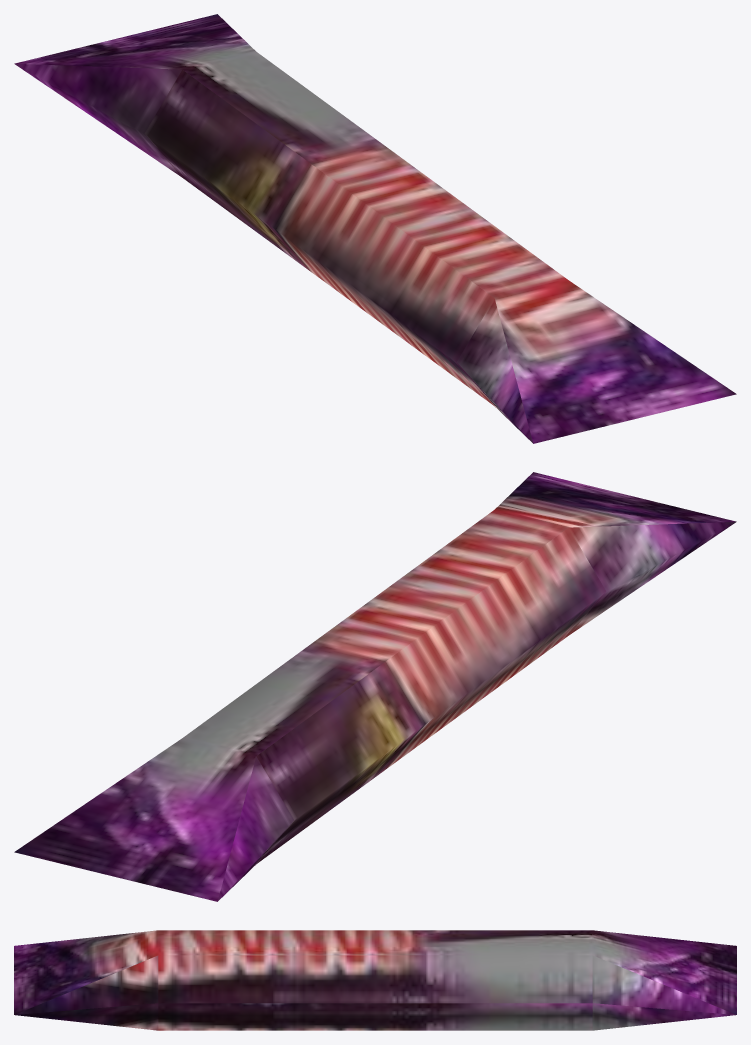
The model's file is Cookies_07.glb.
3 views of the same model, one above another, from view 1: azimuth 30°, elevation 25°; view 2: azimuth 150°, elevation 25°; view 3: azimuth 270°, elevation 25° (orthographic). The views are drawn at different scales.
Parts seen in each view (by area): view 1: Cookies_07; view 2: Cookies_07; view 3: Cookies_07.
Part boxes in pixels (<box>): Cookies_07: <box>14,14,736,443</box>; Cookies_07: <box>14,472,736,901</box>; Cookies_07: <box>14,930,736,1030</box>.
Bounding box in the file's own units: 0.0825 × 0.0419 × 0.3645.
Materials: 1 (1 with a texture image).
